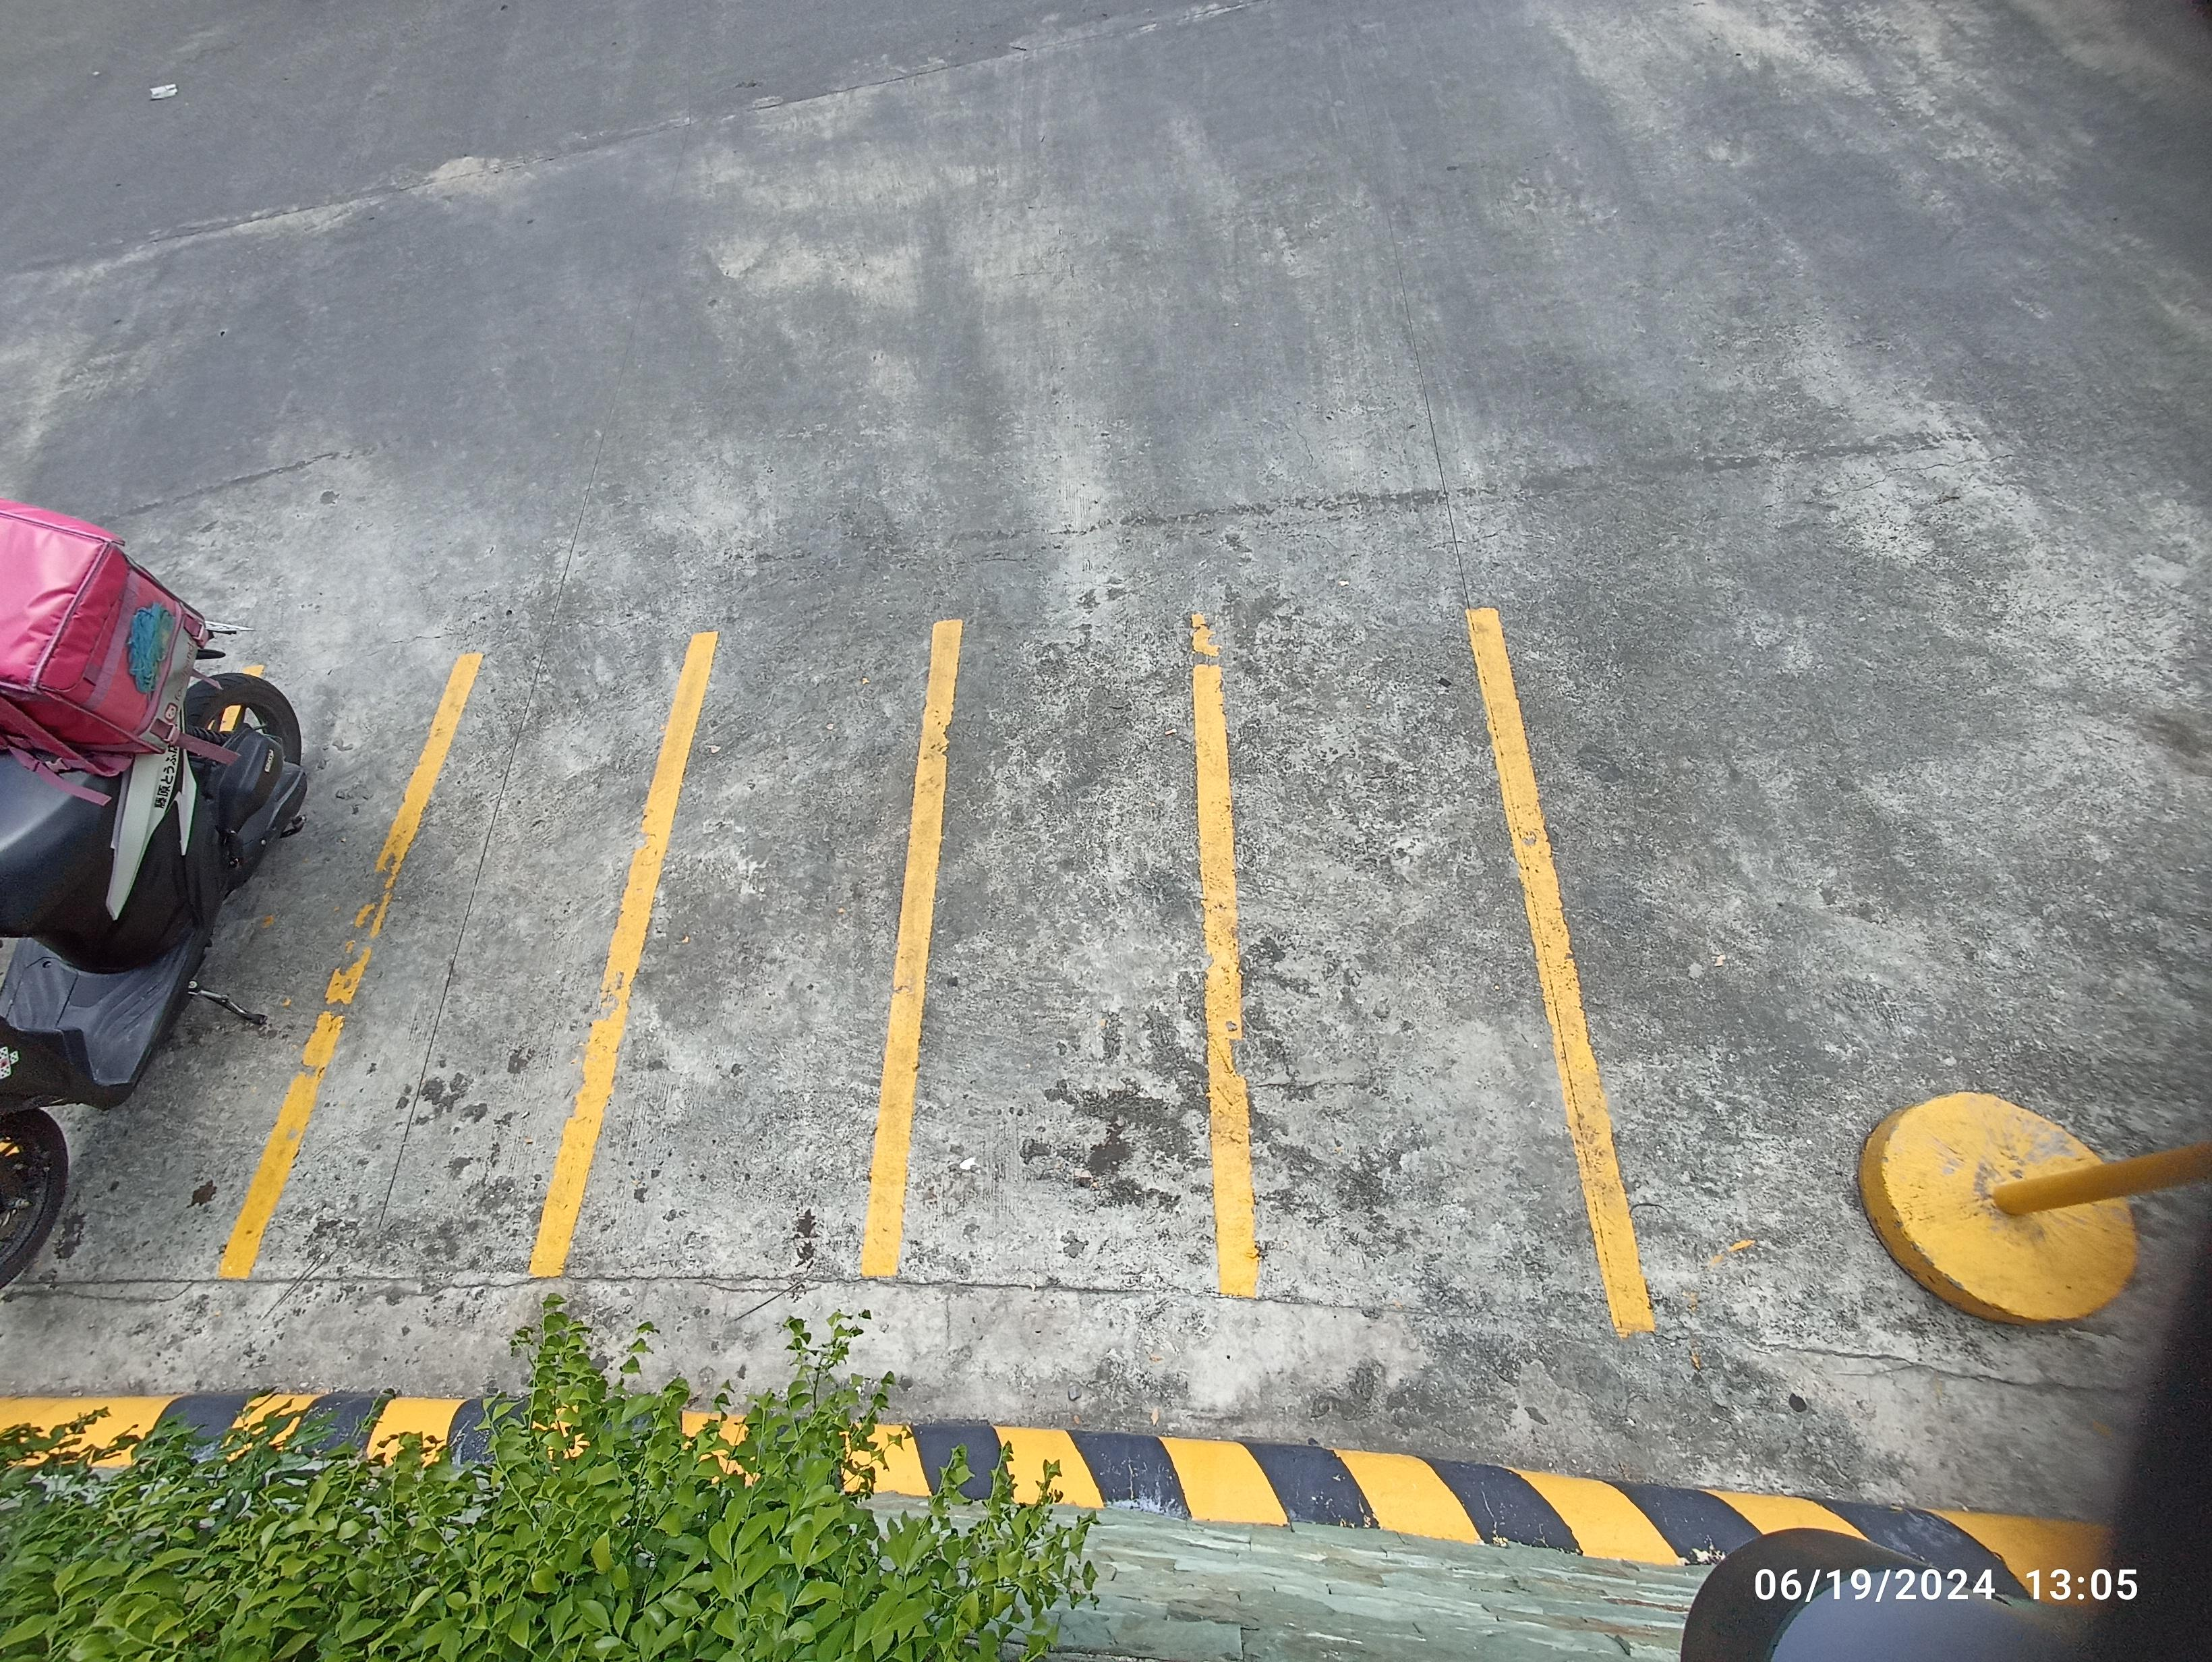vacant: (214, 632, 719, 1284), (1190, 614, 1608, 1336), (535, 620, 959, 1282), (857, 612, 1260, 1296)
